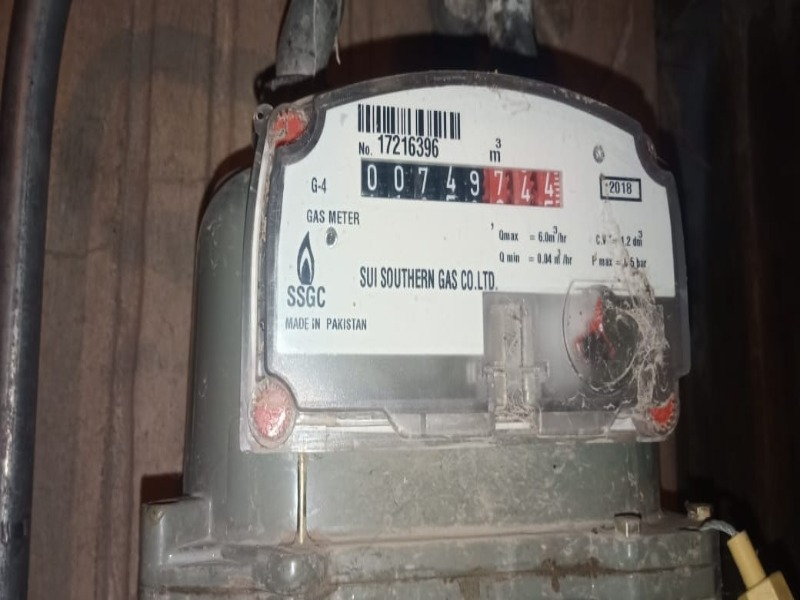ssgc: (357, 155, 565, 212)
